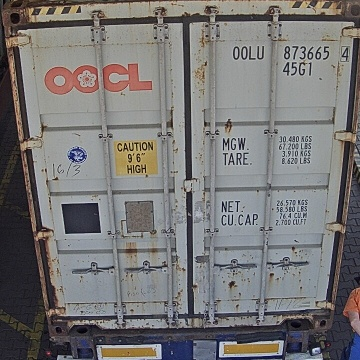serial_id: (233, 46, 350, 59)
